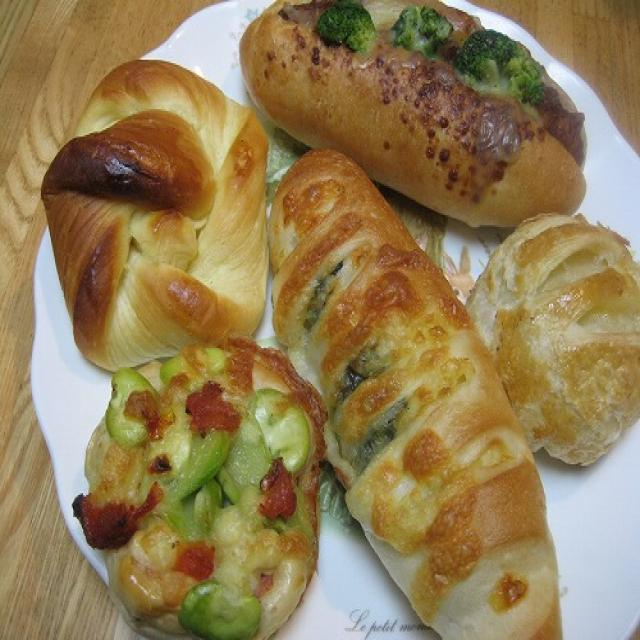三明治: (270, 153, 560, 640)
